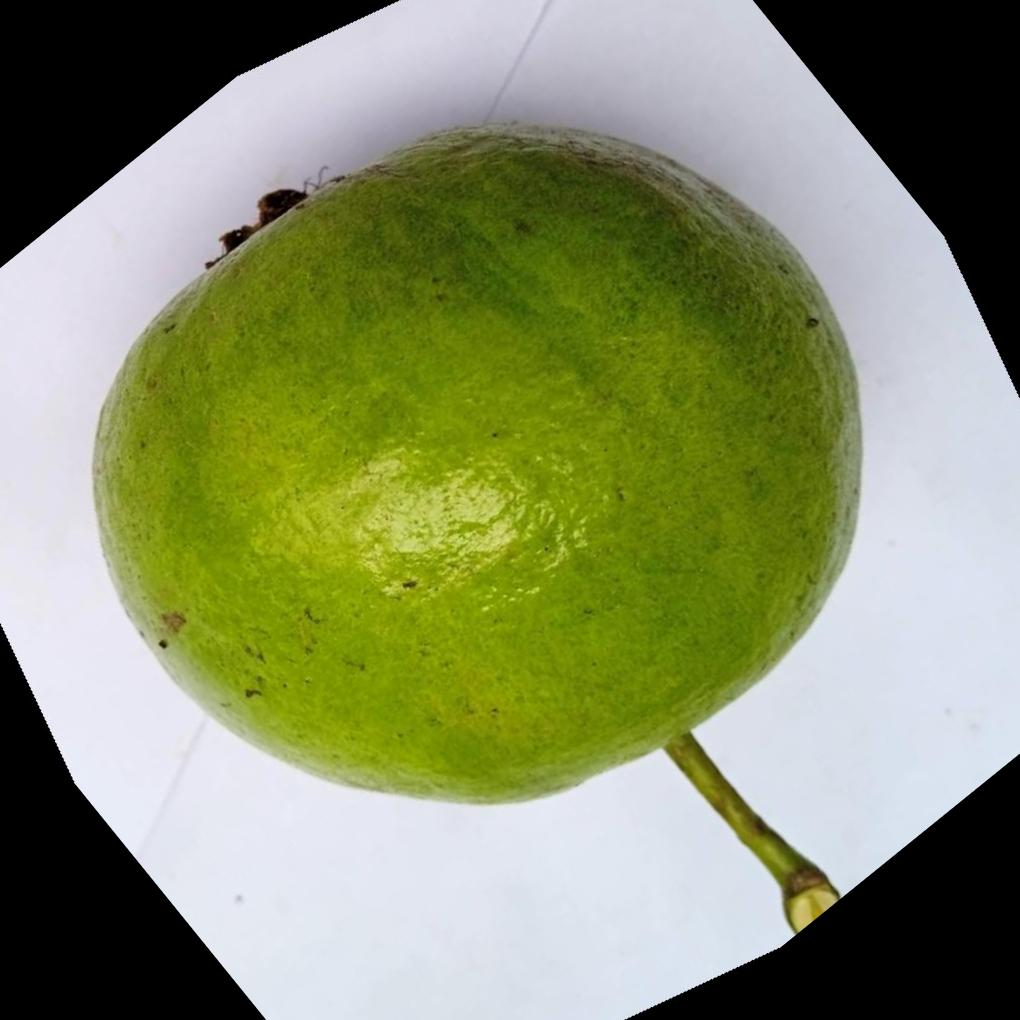FreshGuava: (90, 121, 869, 805)
